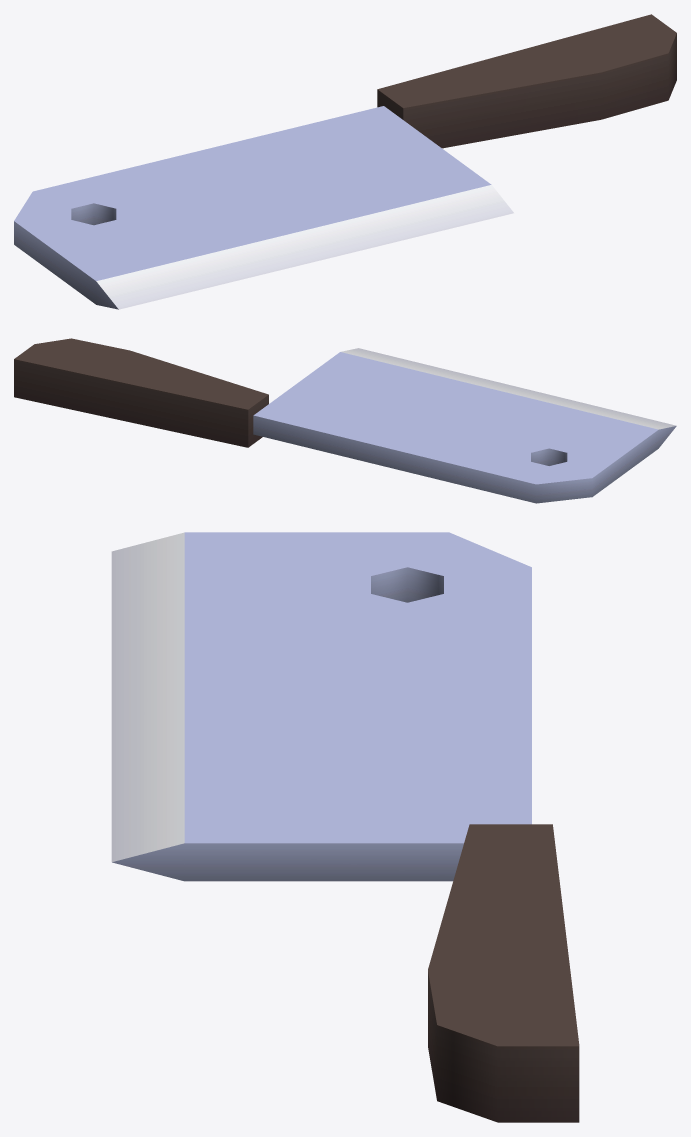
File: cooking-knife-chopping.glb
3 renders of one model, top to bottom at view 1: azimuth 30°, elevation 25°; view 2: azimuth 150°, elevation 25°; view 3: azimuth 270°, elevation 25°, orthographic. The views are drawn at different scales.
Parts seen in each view (by area): view 1: cooking-knife-chopping; view 2: cooking-knife-chopping; view 3: cooking-knife-chopping.
Part boxes in pixels (<box>): cooking-knife-chopping: <box>14,14,676,309</box>; cooking-knife-chopping: <box>14,338,676,503</box>; cooking-knife-chopping: <box>111,532,579,1122</box>.
Bounding box in the file's own units: 0.6 × 0.04 × 0.2227.
Materials: 1 (1 with a texture image).
